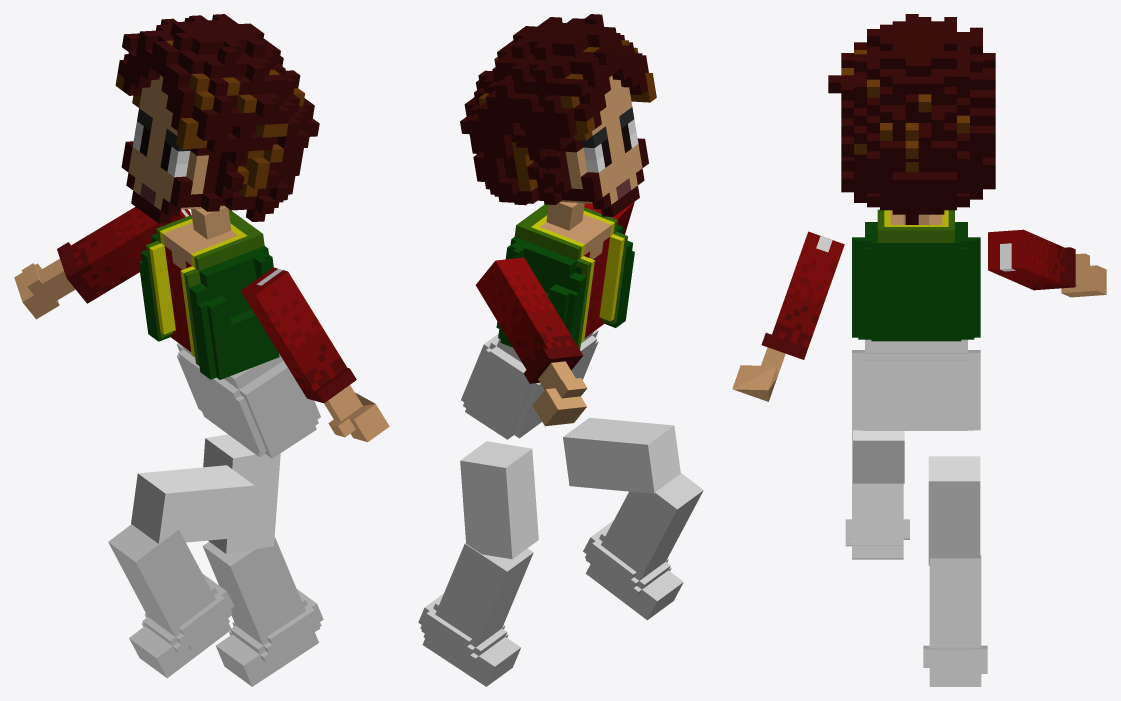
The model's file is Jump3.fbx.
3 views of the same model, side by side, from view 1: azimuth 30°, elevation 25°; view 2: azimuth 150°, elevation 25°; view 3: azimuth 270°, elevation 25° (orthographic). The views are drawn at different scales.
Parts seen in each view (by area): view 1: Jump3; view 2: Jump3; view 3: Jump3.
Part boxes in pixels (left/top/right/bottom): Jump3: left=14, top=14, right=389, bottom=686; Jump3: left=418, top=14, right=703, bottom=686; Jump3: left=732, top=14, right=1106, bottom=686.
Size of the model in its own units: 77.55 by 219 by 118.
